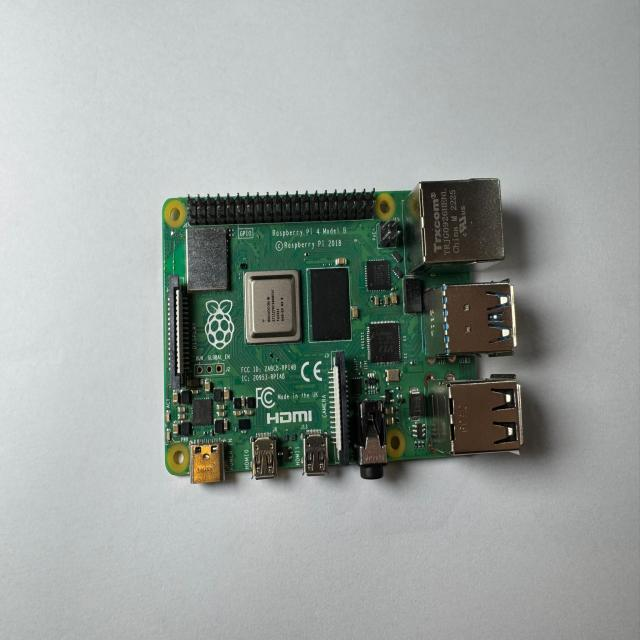CPU: (242, 271, 304, 347)
Ethernet: (401, 180, 507, 277)
GPIO: (185, 191, 378, 228)
RAM: (305, 259, 356, 349)
Raspberry: (159, 180, 526, 488)
micro-hdmi: (302, 430, 335, 485), (250, 435, 284, 483)
